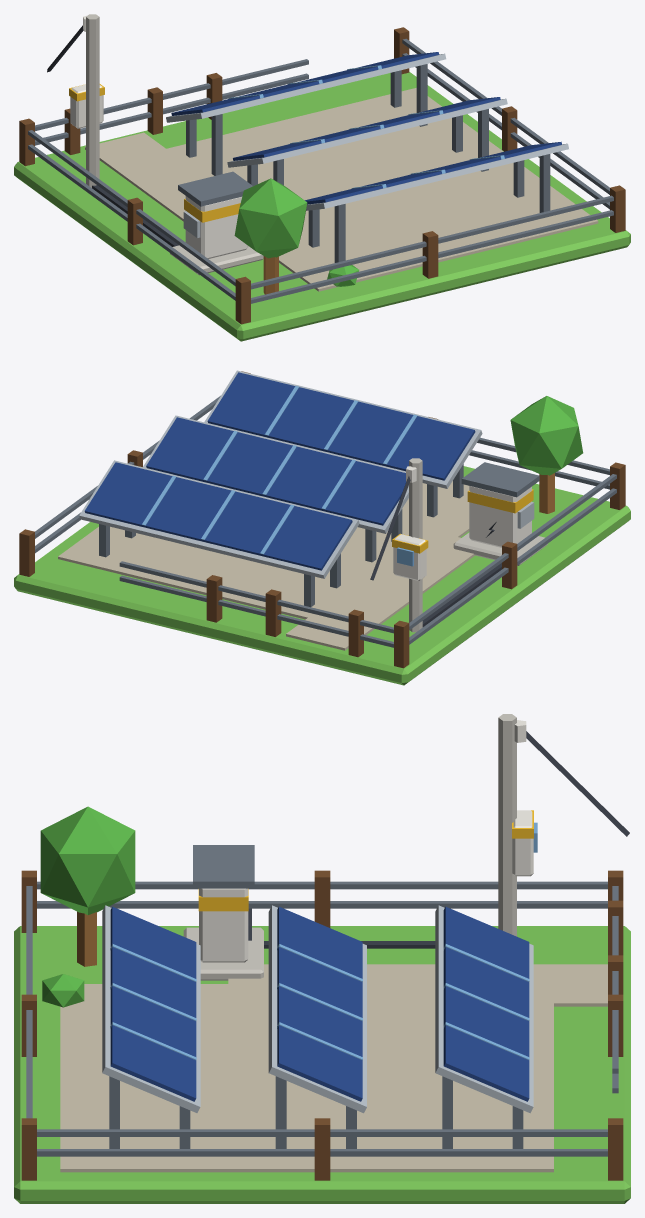
File: solar_micro.glb
3 views of the same model, one above another, from view 1: azimuth 30°, elevation 25°; view 2: azimuth 150°, elevation 25°; view 3: azimuth 270°, elevation 25° (orthographic). The views are drawn at different scales.
Visible parts, largest first — view 1: corpo; view 2: corpo; view 3: corpo.
Part boxes in pixels (bbox=[...]): corpo: bbox=[14, 14, 630, 341]; corpo: bbox=[14, 370, 630, 685]; corpo: bbox=[14, 714, 630, 1203].
Size of the model in its own units: 2 by 0.9 by 2.
